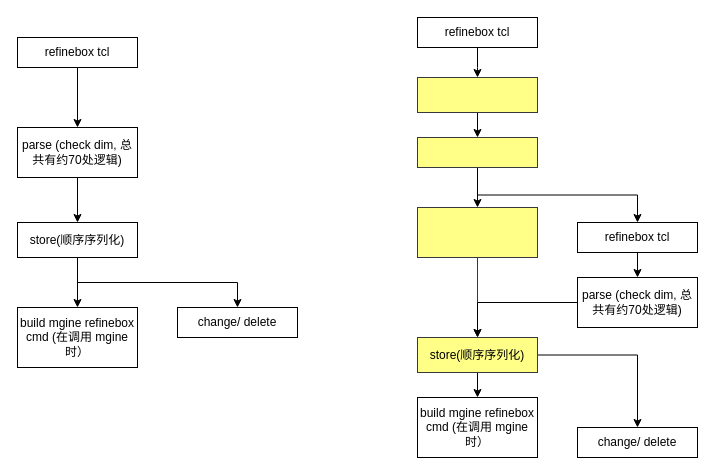
The diagram is 715 pixels wide and 475 high, and some of its shapes have lost their labels. Each missing label, with the box of its shape:
init 后 获取dim: (416, 136, 538, 168)
parse stored tcl: (416, 206, 538, 258)
store tcl: (416, 76, 538, 112)
